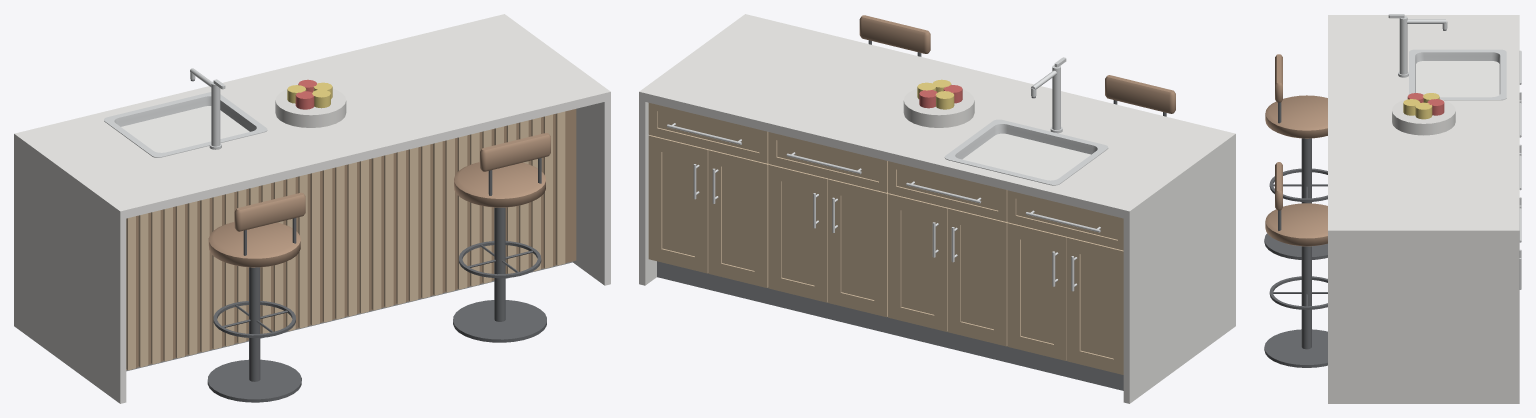
The picture shows the model from 3 angles, left to right: view 1: azimuth 30°, elevation 25°; view 2: azimuth 150°, elevation 25°; view 3: azimuth 270°, elevation 25°; orthographic projection. The views are drawn at different scales.
Parts seen in each view (by area): view 1: Đảo bếp Dài=2400; Rộng=900; view 2: Đảo bếp Dài=2400; Rộng=900; view 3: Đảo bếp Dài=2400; Rộng=900.
Boxes of the visible parts, x1=… form: Đảo bếp Dài=2400; Rộng=900: x1=14, y1=14, x2=610, y2=403; Đảo bếp Dài=2400; Rộng=900: x1=639, y1=14, x2=1235, y2=403; Đảo bếp Dài=2400; Rộng=900: x1=1264, y1=14, x2=1521, y2=403.
Bounding box in the file's own units: 2.4 × 1.21 × 1.21.
